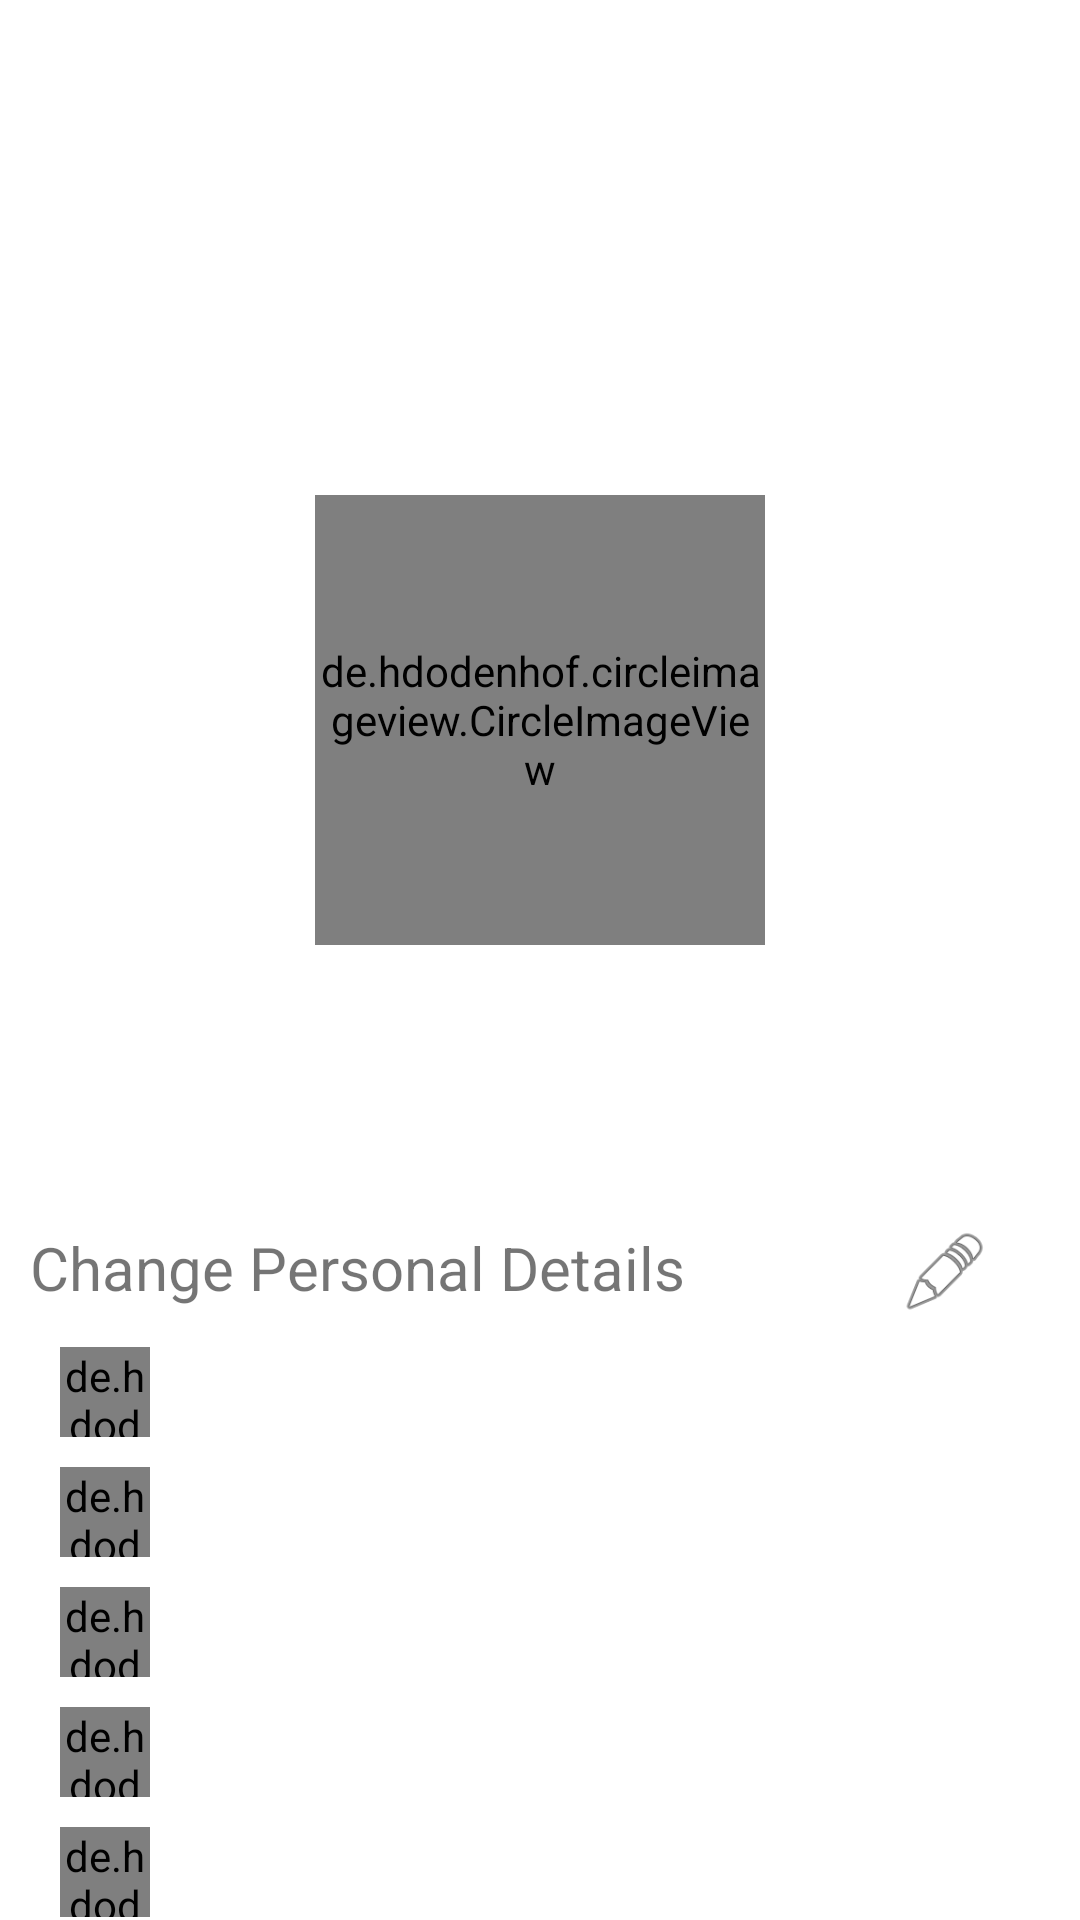

Icon click points for this 1080w x 1920h phone screenshot, format (x,y):
edit: (944,1271)
